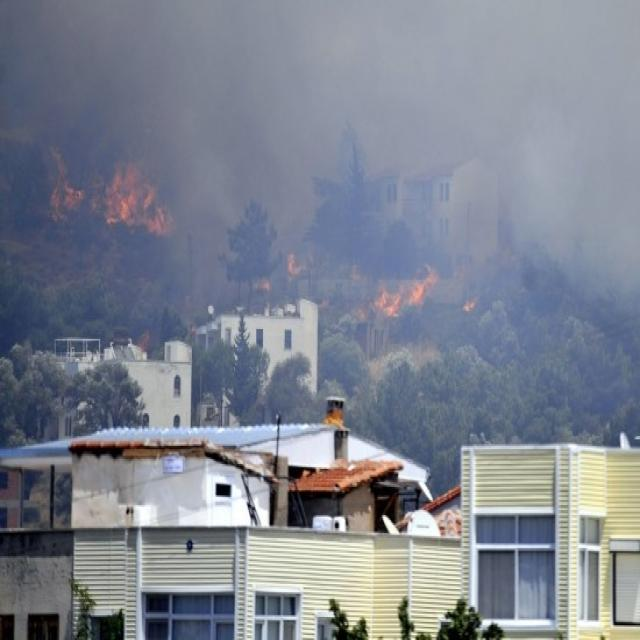Fire: (92, 160, 177, 238), (372, 266, 440, 318), (45, 147, 84, 225)
Smoke: (1, 2, 640, 306)
